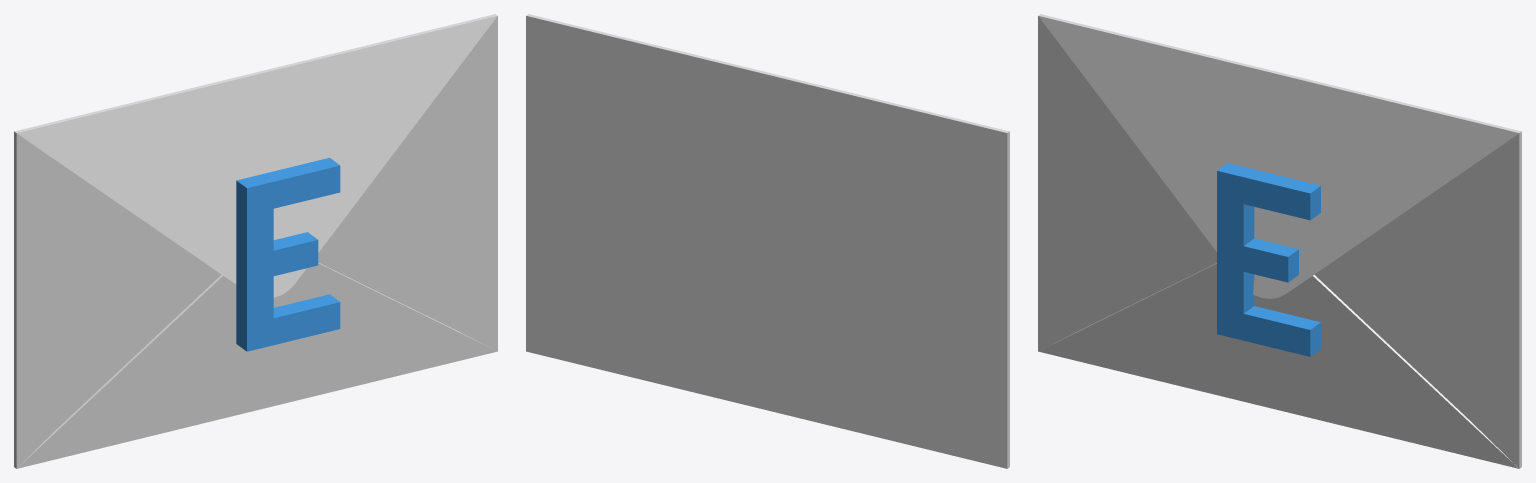
File: email.glb
The picture shows the model from 3 angles, left to right: view 1: azimuth 30°, elevation 25°; view 2: azimuth 150°, elevation 25°; view 3: azimuth 330°, elevation 25°; orthographic projection.
Parts seen in each view (by area): view 1: Plane.333; view 2: Plane.333; view 3: Plane.333.
Part boxes in pixels (x1,y1,x2,y2): Plane.333: (14,14,497,468); Plane.333: (526,14,1009,468); Plane.333: (1038,14,1521,468).
Size of the model in its own units: 2.34 by 1.56 by 0.2377.
1 material, 1 textured.
